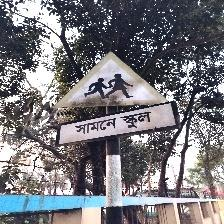School-in-front: (51, 49, 179, 147)
